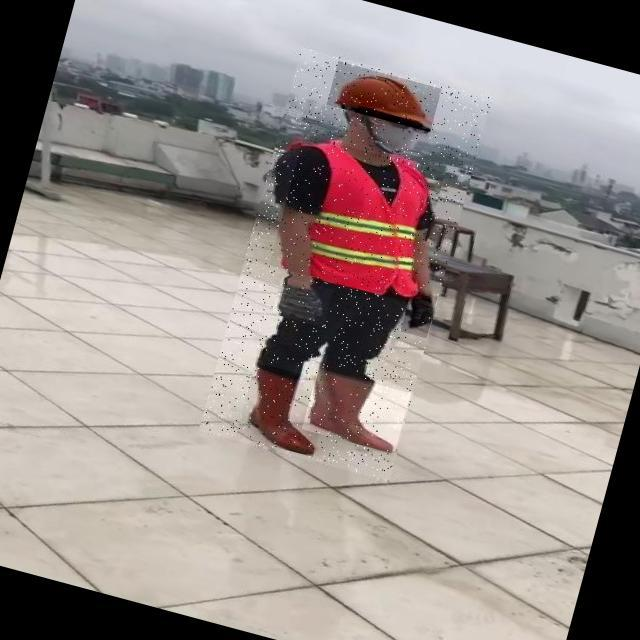Gloves: (272, 277, 334, 328), (400, 291, 437, 339)
Helmet: (326, 62, 441, 132)
Human: (198, 48, 491, 483)
Safety Boot: (302, 369, 411, 454), (235, 363, 332, 457)
Safety Vest: (269, 136, 445, 303)
